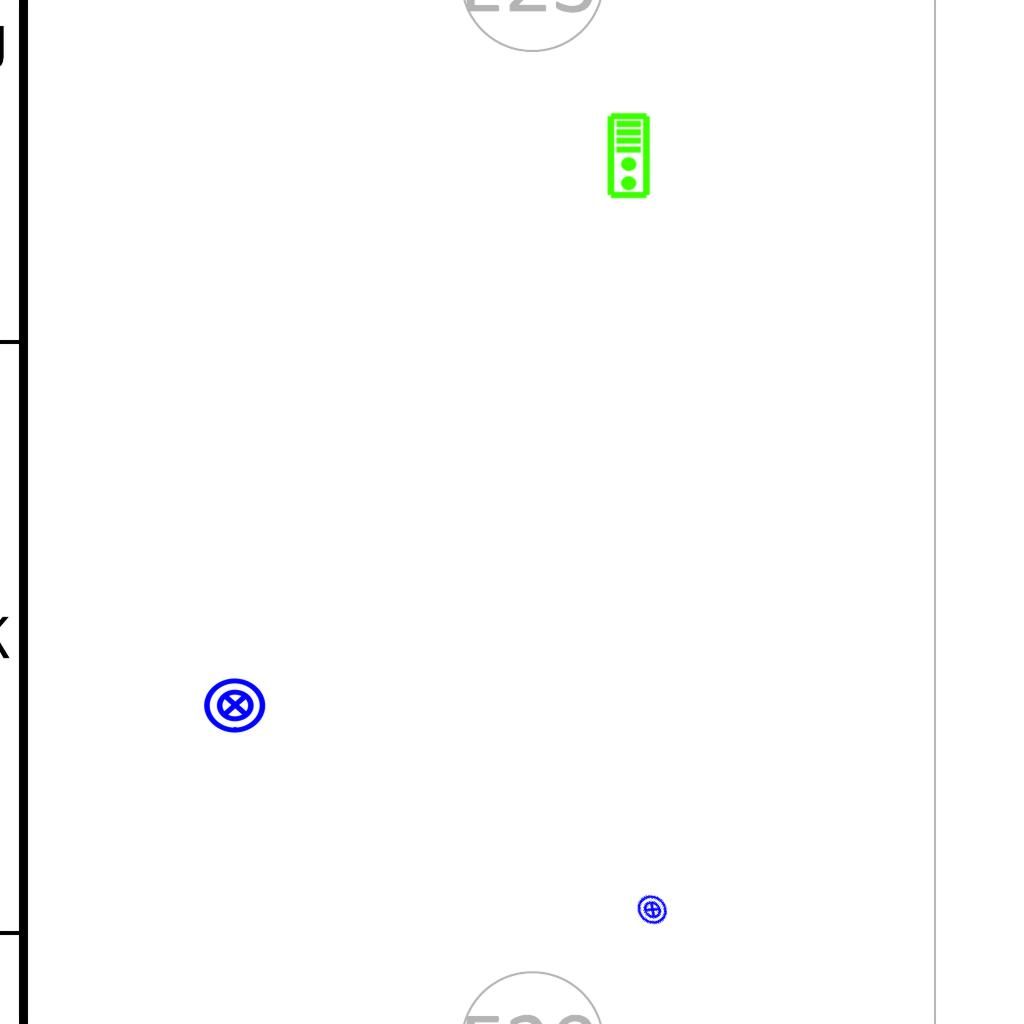Gegensprechanlage_mit_Video: (606, 112, 653, 200)
Taster_beleuchtet: (202, 672, 268, 738), (629, 886, 676, 933)
